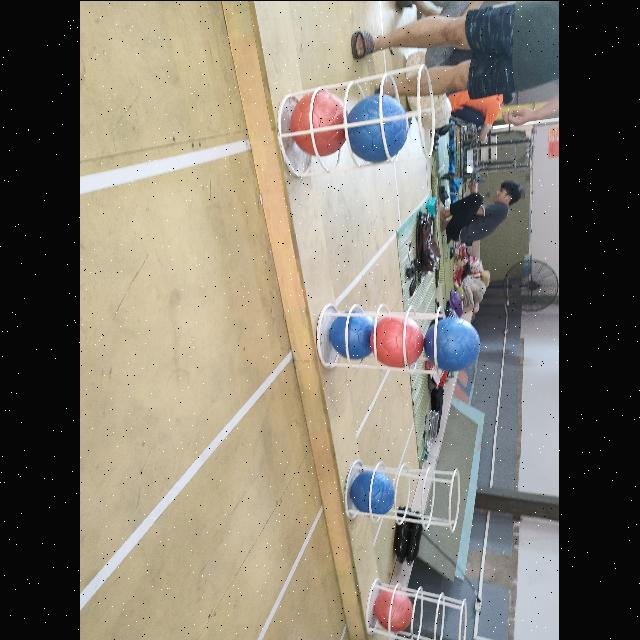B: (348, 96, 409, 162), (424, 317, 482, 369), (351, 470, 397, 516), (332, 310, 376, 358)
R: (292, 90, 348, 156), (370, 312, 426, 366), (375, 586, 415, 632)
